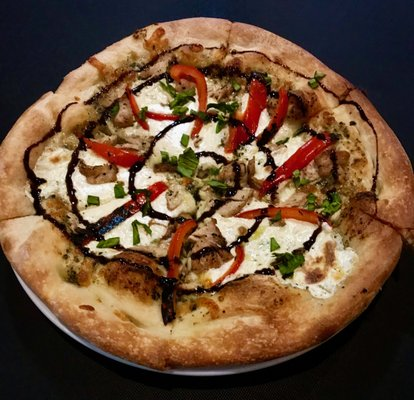sandwich: (3, 19, 413, 371)
